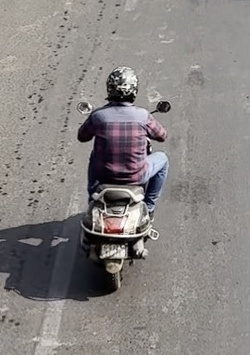BikeWithRider: (70, 60, 175, 294)
Helmet: (101, 62, 142, 105)
